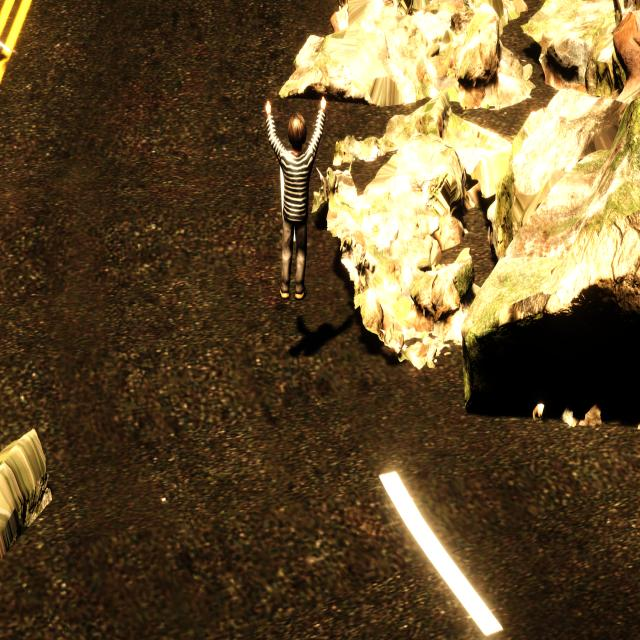Human: (261, 91, 328, 308)
